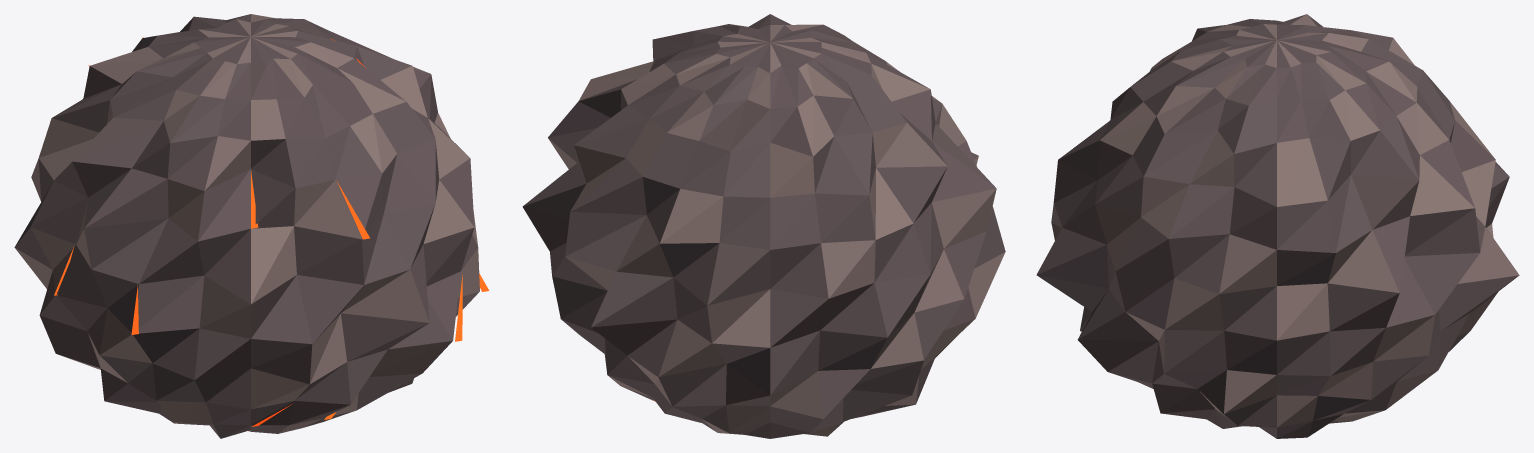
Rendered from lava_asteroid.glb.
3 renders of one model, left to right at view 1: azimuth 30°, elevation 25°; view 2: azimuth 150°, elevation 25°; view 3: azimuth 270°, elevation 25°, orthographic.
Parts seen in each view (by area): view 1: Asteroid; view 2: Asteroid; view 3: Asteroid.
Boxes of the visible parts, x1,y1,x2,y2 form: Asteroid: [14, 14, 489, 438]; Asteroid: [522, 14, 1005, 438]; Asteroid: [1036, 14, 1519, 438].
Bounding box in the file's own units: 2.07 × 1.9 × 2.25.
